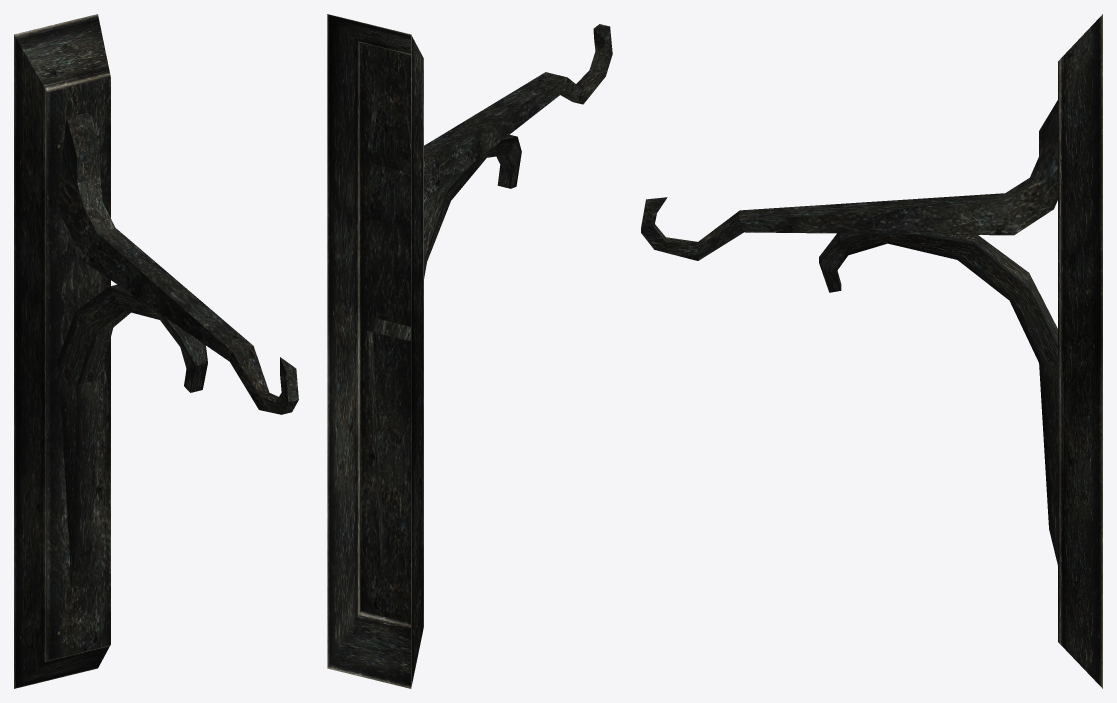
Rendered from furn_com_lantern_hook.obj.
3 views of the same model, side by side, from view 1: azimuth 30°, elevation 25°; view 2: azimuth 150°, elevation 25°; view 3: azimuth 270°, elevation 25° (orthographic). The views are drawn at different scales.
Parts seen in each view (by area): view 1: nifid_2-matrix_Tri_Furn_Com_Lantern_Hook_0-lib; view 2: nifid_2-matrix_Tri_Furn_Com_Lantern_Hook_0-lib; view 3: nifid_2-matrix_Tri_Furn_Com_Lantern_Hook_0-lib.
Boxes of the visible parts, x1,y1,x2,y2 form: nifid_2-matrix_Tri_Furn_Com_Lantern_Hook_0-lib: (14, 14, 298, 688); nifid_2-matrix_Tri_Furn_Com_Lantern_Hook_0-lib: (327, 14, 612, 688); nifid_2-matrix_Tri_Furn_Com_Lantern_Hook_0-lib: (641, 14, 1102, 688).
Size of the model in its own units: 0.1208 by 0.9008 by 0.5936.
